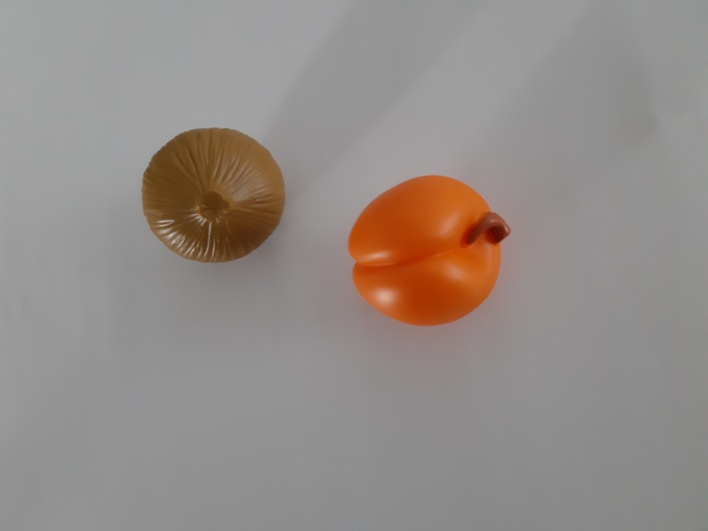apricot: (334, 160, 529, 340)
onion: (132, 114, 297, 271)
